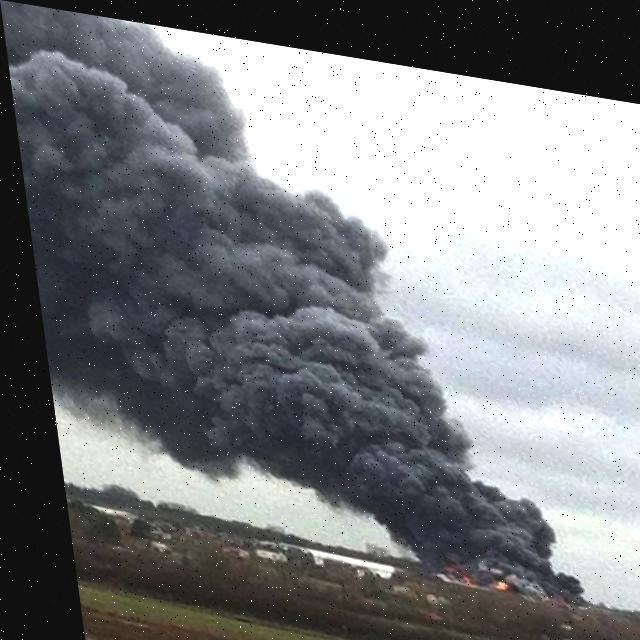Fire: (475, 563, 494, 576)
